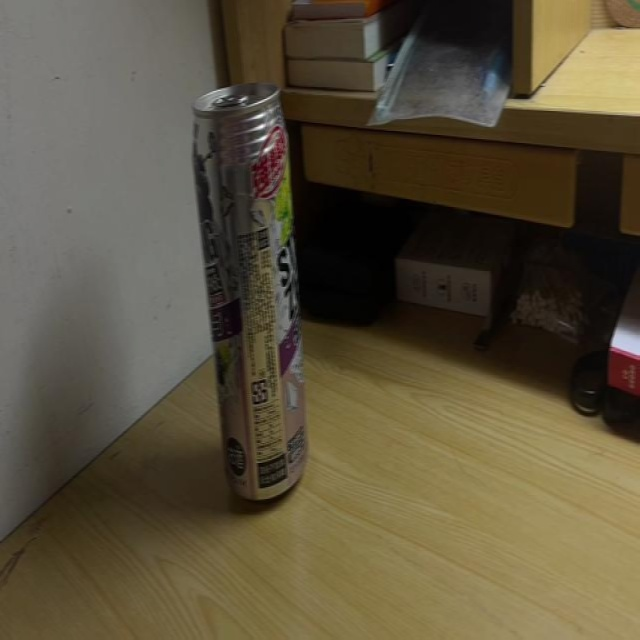Liquor: (192, 81, 311, 505)
